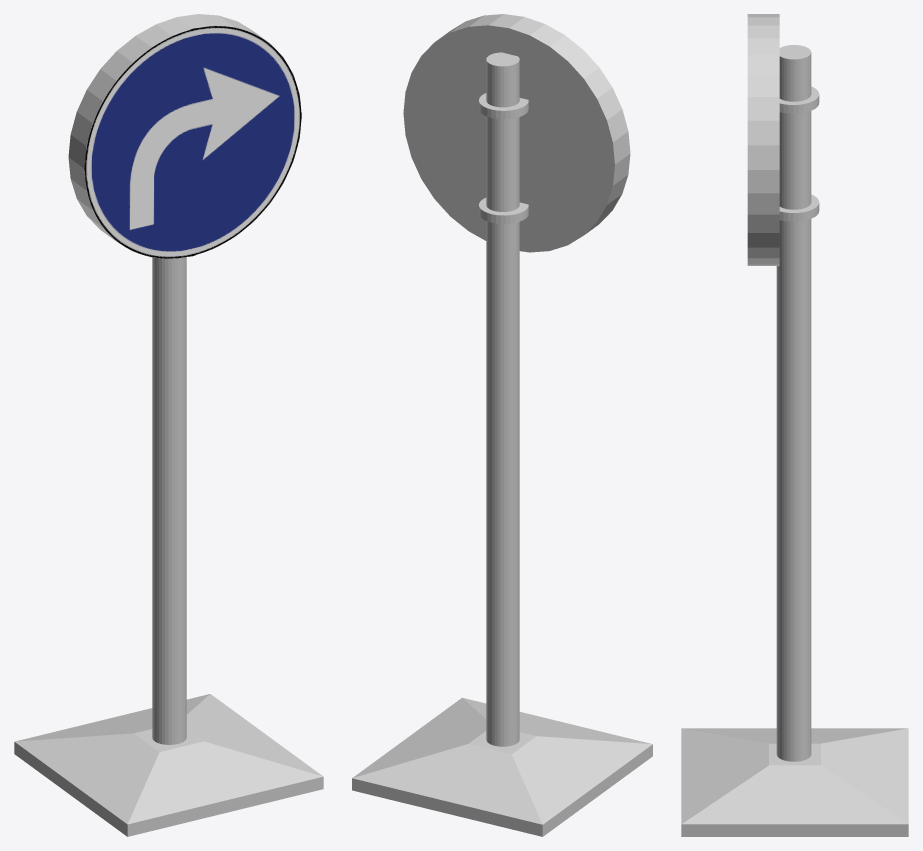
File: saga_don.dae
3 renders of one model, left to right at view 1: azimuth 30°, elevation 25°; view 2: azimuth 150°, elevation 25°; view 3: azimuth 270°, elevation 25°, orthographic. The views are drawn at different scales.
Parts seen in each view (by area): view 1: Cylinder.001; view 2: Cylinder.001; view 3: Cylinder.001.
Boxes of the visible parts, x1,y1,x2,y2 form: Cylinder.001: [14, 14, 323, 836]; Cylinder.001: [352, 14, 652, 836]; Cylinder.001: [681, 14, 908, 836].
Size of the model in its own units: 0.83 by 0.7483 by 2.77.
2 materials, 1 textured.
